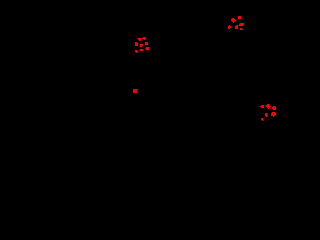Target: (231, 18, 236, 23), (266, 104, 271, 109), (271, 112, 276, 117), (133, 89, 137, 93), (272, 106, 276, 110), (239, 23, 244, 26), (228, 25, 231, 29), (235, 25, 238, 29), (142, 37, 146, 40), (135, 42, 138, 46), (145, 47, 149, 50), (260, 105, 264, 108), (265, 113, 268, 117), (238, 16, 241, 19), (138, 38, 141, 41), (145, 42, 148, 45), (140, 44, 143, 47), (135, 50, 138, 53), (240, 28, 243, 30), (140, 49, 143, 51), (261, 118, 263, 121)
